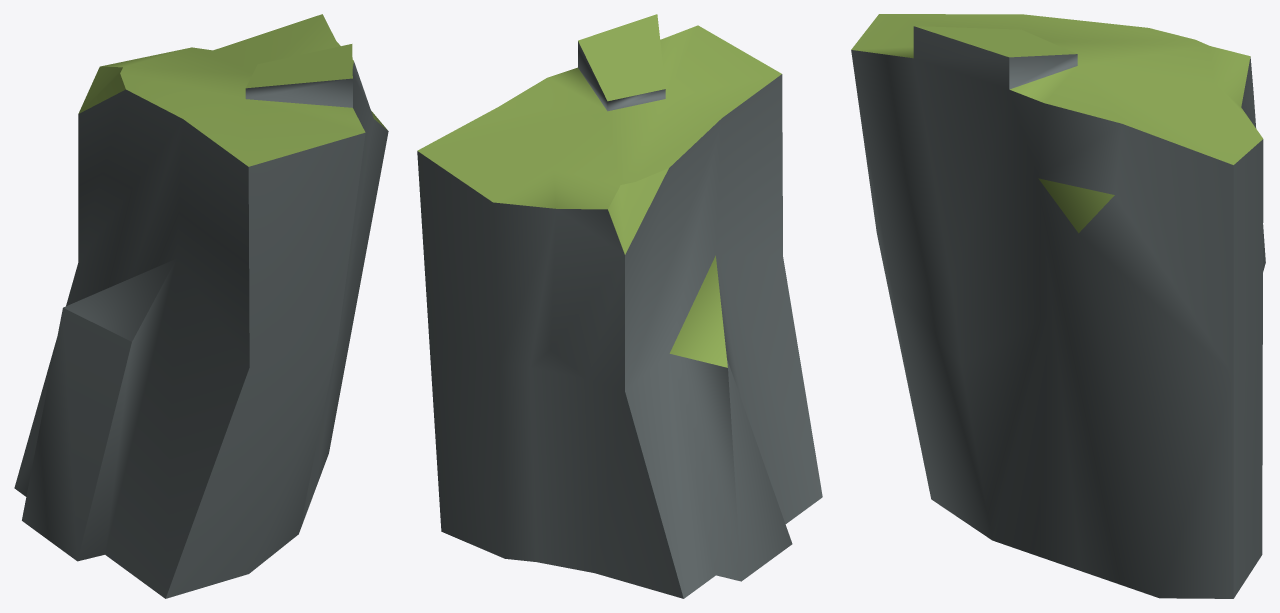
File: rock01.fbx
3 renders of one model, left to right at view 1: azimuth 30°, elevation 25°; view 2: azimuth 150°, elevation 25°; view 3: azimuth 270°, elevation 25°, orthographic. The views are drawn at different scales.
Parts seen in each view (by area): view 1: pCube5; view 2: pCube5; view 3: pCube5.
Part boxes in pixels (bbox=[...]): pCube5: bbox=[14, 14, 388, 598]; pCube5: bbox=[417, 14, 822, 598]; pCube5: bbox=[851, 14, 1265, 598].
Size of the model in its own units: 39.47 by 55.2 by 39.52.
